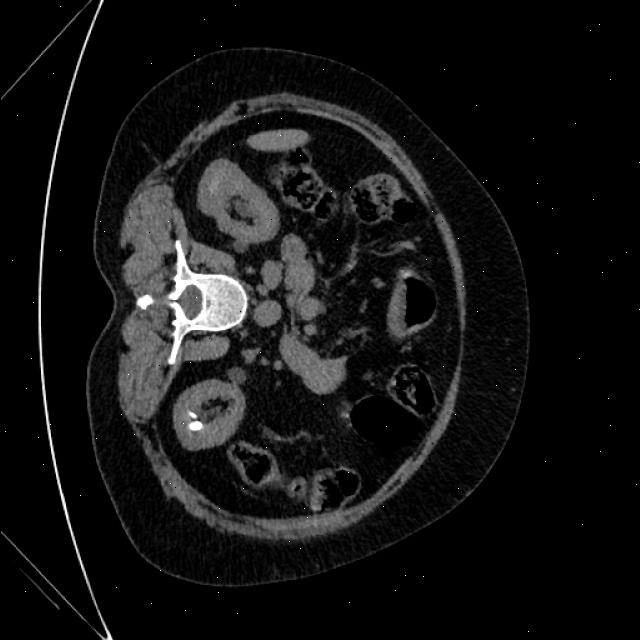kidneystone: (188, 421, 202, 431), (188, 411, 196, 417)
